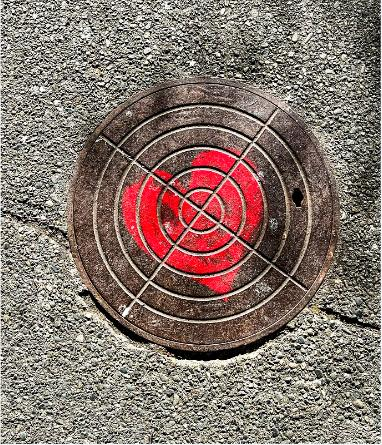wellcover: (55, 71, 341, 355)
